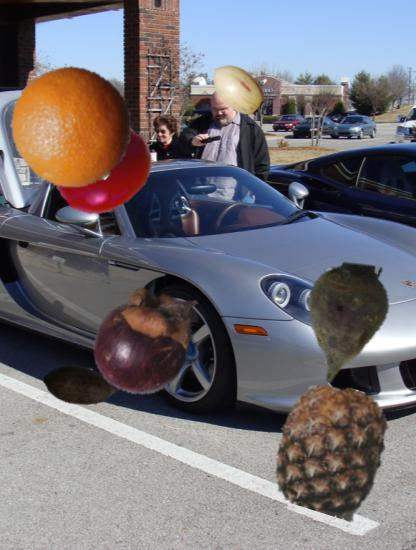Beetroot: (284, 260, 409, 385)
Mangostan: (87, 278, 207, 398)
Nut: (44, 348, 119, 423)
Orange: (11, 66, 134, 189)
Pepino: (208, 59, 266, 117)
Pineapple: (268, 385, 396, 513)
Tomato: (49, 114, 151, 216)
